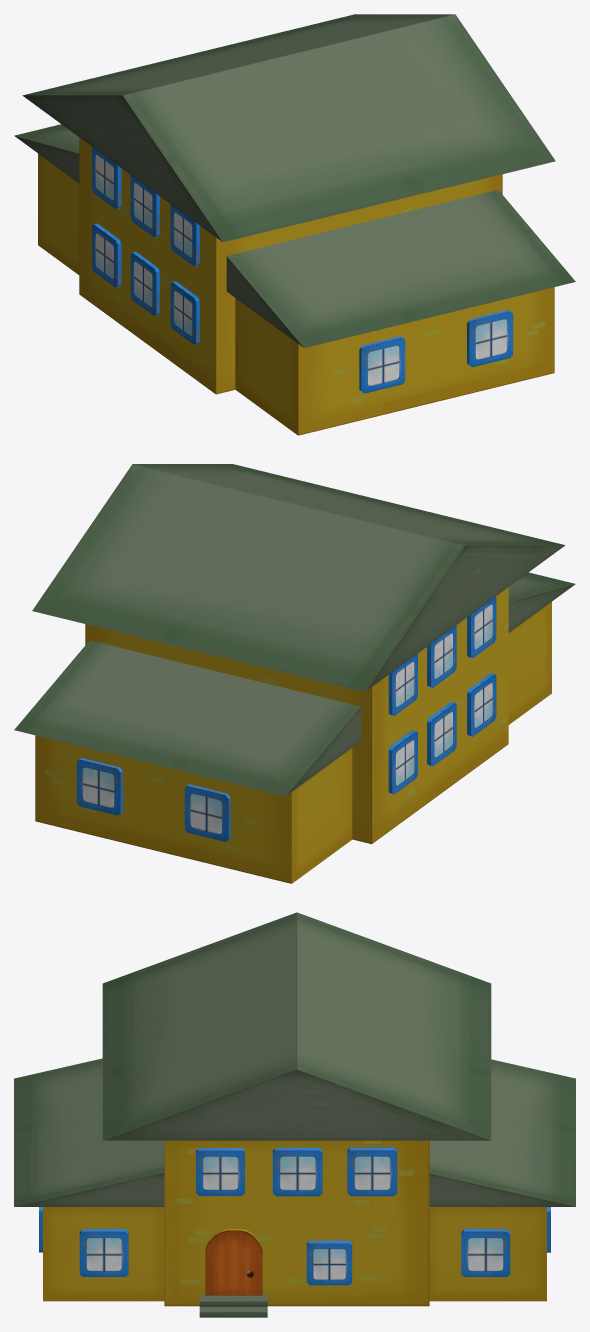
The model's file is House_1.fbx.
3 renders of one model, top to bottom at view 1: azimuth 30°, elevation 25°; view 2: azimuth 150°, elevation 25°; view 3: azimuth 270°, elevation 25°, orthographic. The views are drawn at different scales.
Visible parts, largest first — view 1: House_1; view 2: House_1; view 3: House_1.
Part boxes in pixels (x1,y1,x2,y2): House_1: [14, 14, 575, 435]; House_1: [14, 464, 575, 883]; House_1: [14, 912, 575, 1317].
Bounding box in the file's own units: 9.61 × 6.96 × 14.36.
